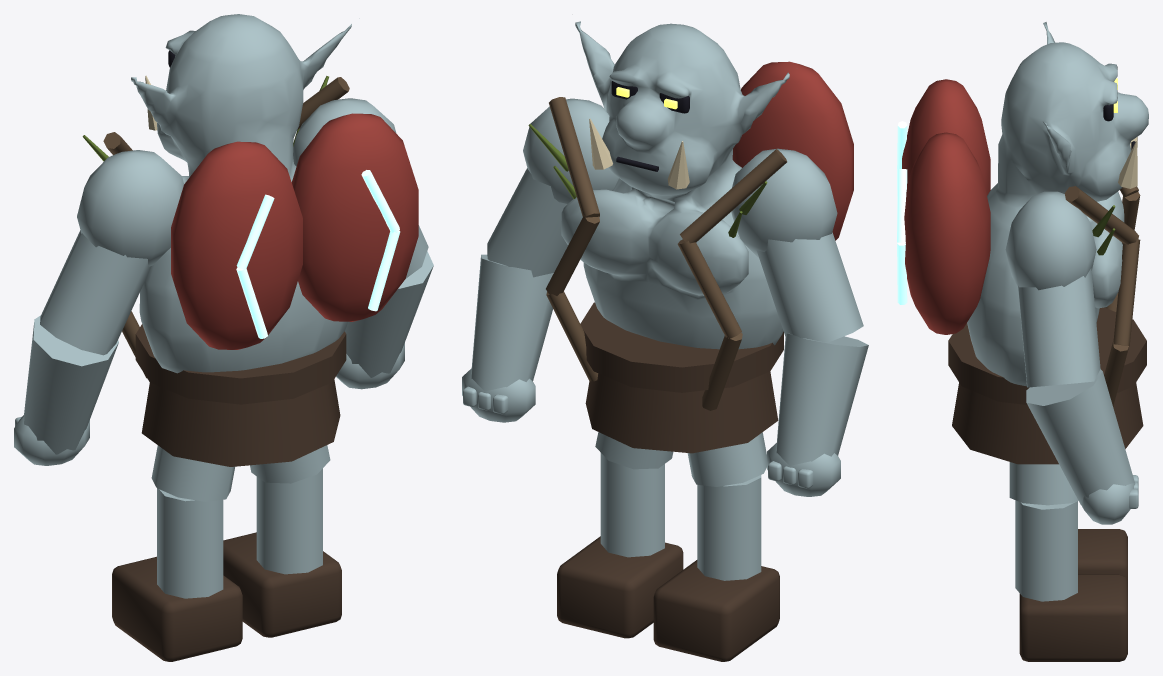
File: host_38-wraith.glb
The picture shows the model from 3 angles, left to right: view 1: azimuth 30°, elevation 25°; view 2: azimuth 150°, elevation 25°; view 3: azimuth 270°, elevation 25°; orthographic projection. The views are drawn at different scales.
Parts seen in each view (by area): view 1: mesh_Red.020_regen, mesh_Skin.002, mesh_Skin.003, mesh_Leather.002, mesh_Skin.056, mesh_Leather.056, mesh_Skin.004, mesh_Skin.001, mesh_Leather.001, mesh_Soul.007_regen, mesh_Wood.036; view 2: mesh_Skin.002, mesh_Skin.003, mesh_Skin.004, mesh_Leather.002, mesh_Wood.036, mesh_Red.020_regen, mesh_Leather.056, mesh_Skin.056, mesh_Leather.001, mesh_Skin.001, mesh_Bone.053, mesh_Moss.003_regen (+1 smaller); view 3: mesh_Skin.002, mesh_Skin.004, mesh_Red.020_regen, mesh_Leather.002, mesh_Skin.001, mesh_Leather.001, mesh_Wood.036, mesh_Leather.056, mesh_Soul.007_regen, mesh_Bone.053, mesh_Moss.003_regen.
Part boxes in pixels (<box>): mesh_Red.020_regen: <box>171,113,418,349</box>; mesh_Skin.002: <box>131,14,359,373</box>; mesh_Skin.003: <box>14,150,184,465</box>; mesh_Leather.002: <box>135,324,346,466</box>; mesh_Skin.056: <box>151,445,234,598</box>; mesh_Leather.056: <box>112,556,242,661</box>; mesh_Skin.004: <box>293,98,433,389</box>; mesh_Skin.001: <box>250,445,330,574</box>; mesh_Leather.001: <box>223,532,341,637</box>; mesh_Soul.007_regen: <box>236,170,400,338</box>; mesh_Wood.036: <box>103,77,349,378</box>; mesh_Skin.002: <box>561,21,789,349</box>; mesh_Skin.003: <box>731,148,868,496</box>; mesh_Skin.004: <box>462,98,618,422</box>; mesh_Leather.002: <box>580,302,783,453</box>; mesh_Wood.036: <box>546,97,787,410</box>; mesh_Red.020_regen: <box>732,61,853,240</box>; mesh_Leather.056: <box>653,560,779,661</box>; mesh_Skin.056: <box>687,432,766,580</box>; mesh_Leather.001: <box>557,536,683,638</box>; mesh_Skin.001: <box>595,432,673,557</box>; mesh_Bone.053: <box>589,118,689,189</box>; mesh_Moss.003_regen: <box>528,124,767,237</box>; mesh_Skin.002: <box>967,22,1148,386</box>; mesh_Skin.004: <box>1005,191,1138,524</box>; mesh_Red.020_regen: <box>902,79,990,334</box>; mesh_Leather.002: <box>948,307,1146,464</box>; mesh_Skin.001: <box>1009,462,1078,601</box>; mesh_Leather.001: <box>1019,574,1127,661</box>; mesh_Wood.036: <box>1064,186,1140,406</box>; mesh_Leather.056: <box>1078,529,1127,581</box>; mesh_Soul.007_regen: <box>897,121,907,304</box>; mesh_Bone.053: <box>1118,137,1137,188</box>; mesh_Moss.003_regen: <box>1092,205,1115,255</box>.
Size of the model in its own units: 1.52 by 2.27 by 0.9006.
